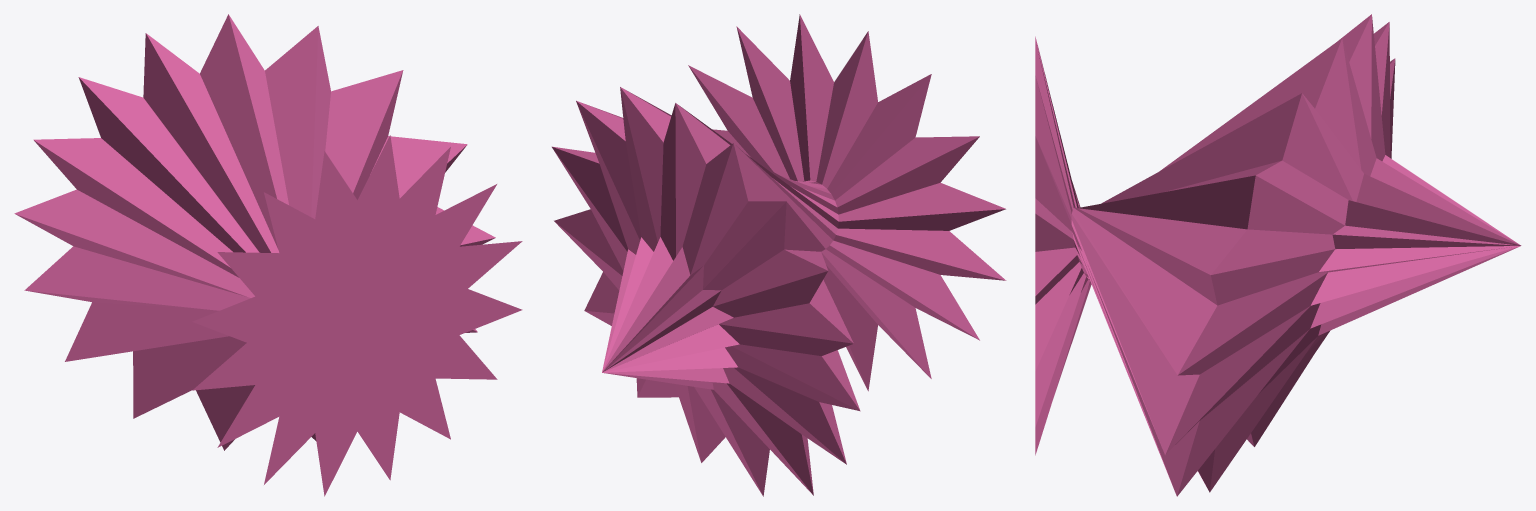
File: GreatPoint2.fbx
The picture shows the model from 3 angles, left to right: view 1: azimuth 30°, elevation 25°; view 2: azimuth 150°, elevation 25°; view 3: azimuth 270°, elevation 25°; orthographic projection. The views are drawn at different scales.
Visible parts, largest first — view 1: Cone; view 2: Cone; view 3: Cone.
Boxes of the visible parts, bbox=[...] form: Cone: bbox=[14, 14, 522, 496]; Cone: bbox=[552, 14, 1006, 496]; Cone: bbox=[1035, 14, 1521, 496].
Size of the model in its own units: 997 by 988 by 999.
